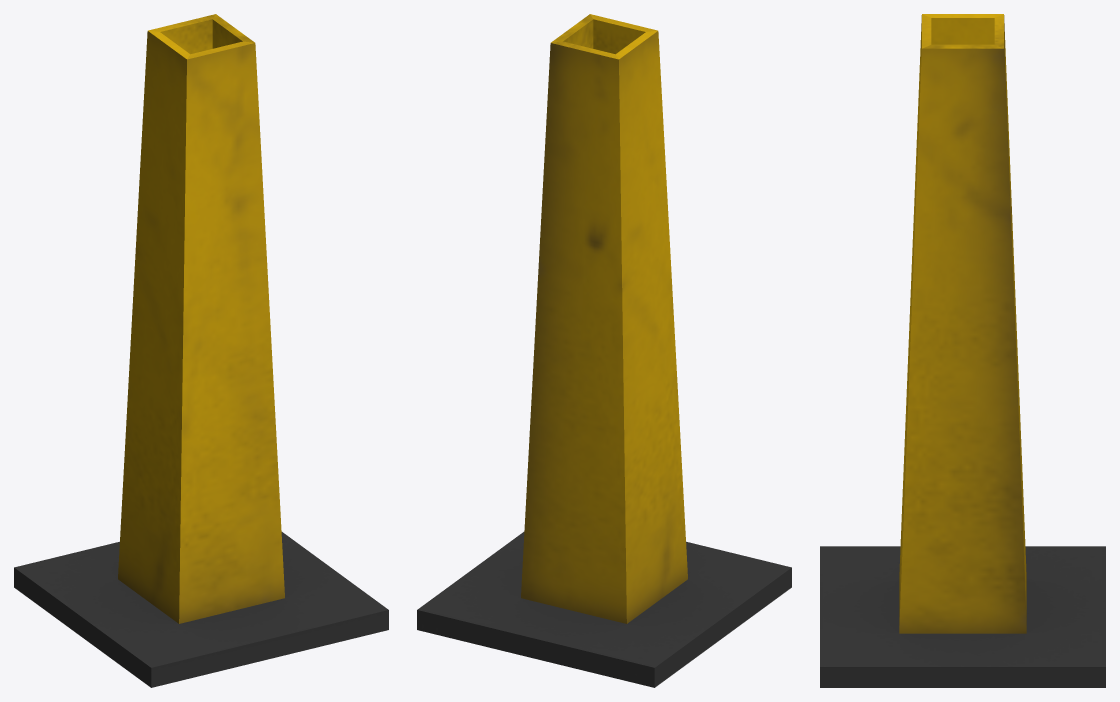
Rendered from confetti nozel.FBX.
3 views of the same model, side by side, from view 1: azimuth 30°, elevation 25°; view 2: azimuth 150°, elevation 25°; view 3: azimuth 270°, elevation 25° (orthographic). The views are drawn at different scales.
Visible parts, largest first — view 1: z; view 2: z; view 3: z.
Part boxes in pixels (x1=…): z: x1=14, y1=14, x2=388, y2=687; z: x1=417, y1=14, x2=791, y2=687; z: x1=820, y1=14, x2=1105, y2=687.
Size of the model in its own units: 6.79 by 15.62 by 6.79.
